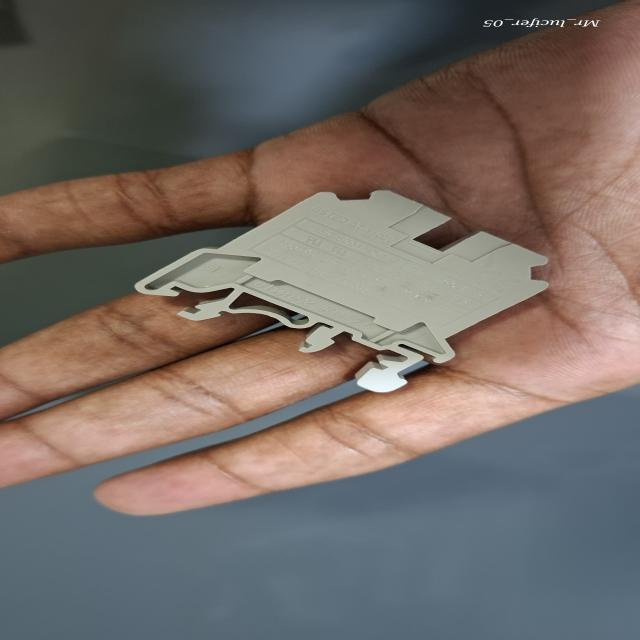Inverted: (130, 189, 560, 398)
